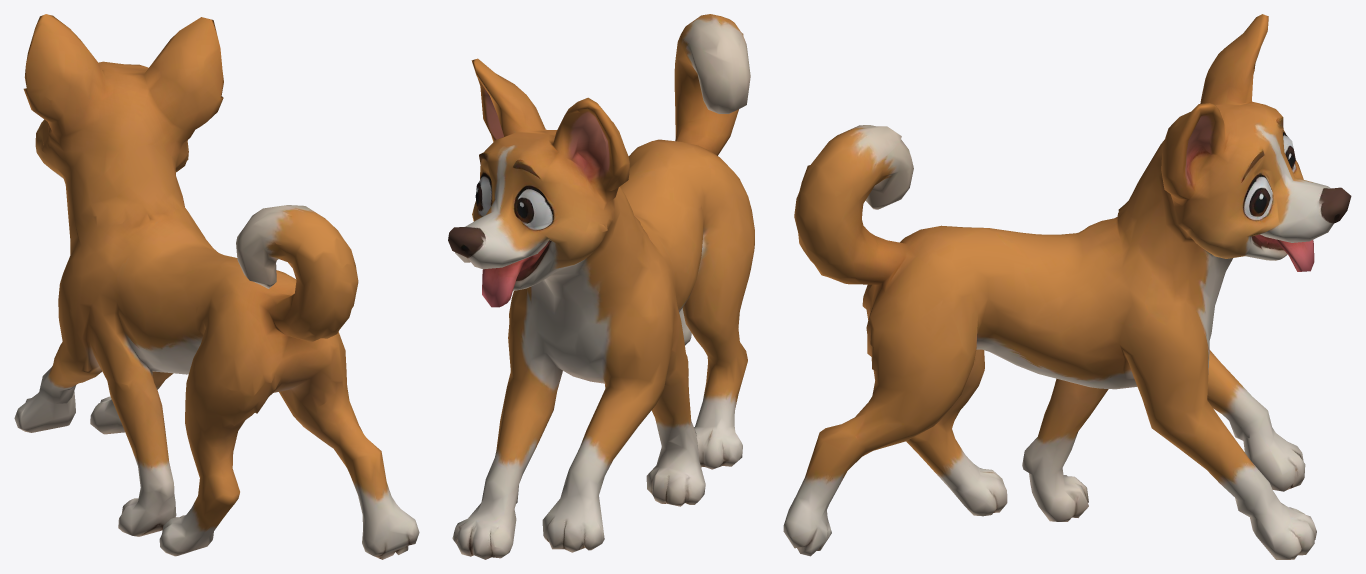
File: street-dog.glb
The picture shows the model from 3 angles, left to right: view 1: azimuth 30°, elevation 25°; view 2: azimuth 150°, elevation 25°; view 3: azimuth 270°, elevation 25°; orthographic projection. The views are drawn at different scales.
Parts seen in each view (by area): view 1: tripo_node_a4aea3ea-9d56-47f3-8213-1e8ef82323d7; view 2: tripo_node_a4aea3ea-9d56-47f3-8213-1e8ef82323d7; view 3: tripo_node_a4aea3ea-9d56-47f3-8213-1e8ef82323d7.
Boxes of the visible parts, x1=… form: tripo_node_a4aea3ea-9d56-47f3-8213-1e8ef82323d7: x1=14, y1=14, x2=419, y2=559; tripo_node_a4aea3ea-9d56-47f3-8213-1e8ef82323d7: x1=448, y1=14, x2=754, y2=559; tripo_node_a4aea3ea-9d56-47f3-8213-1e8ef82323d7: x1=783, y1=14, x2=1351, y2=559.
Bounding box in the file's own units: 0.4198 × 0.9611 × 1.
Materials: 1 (1 with a texture image).
